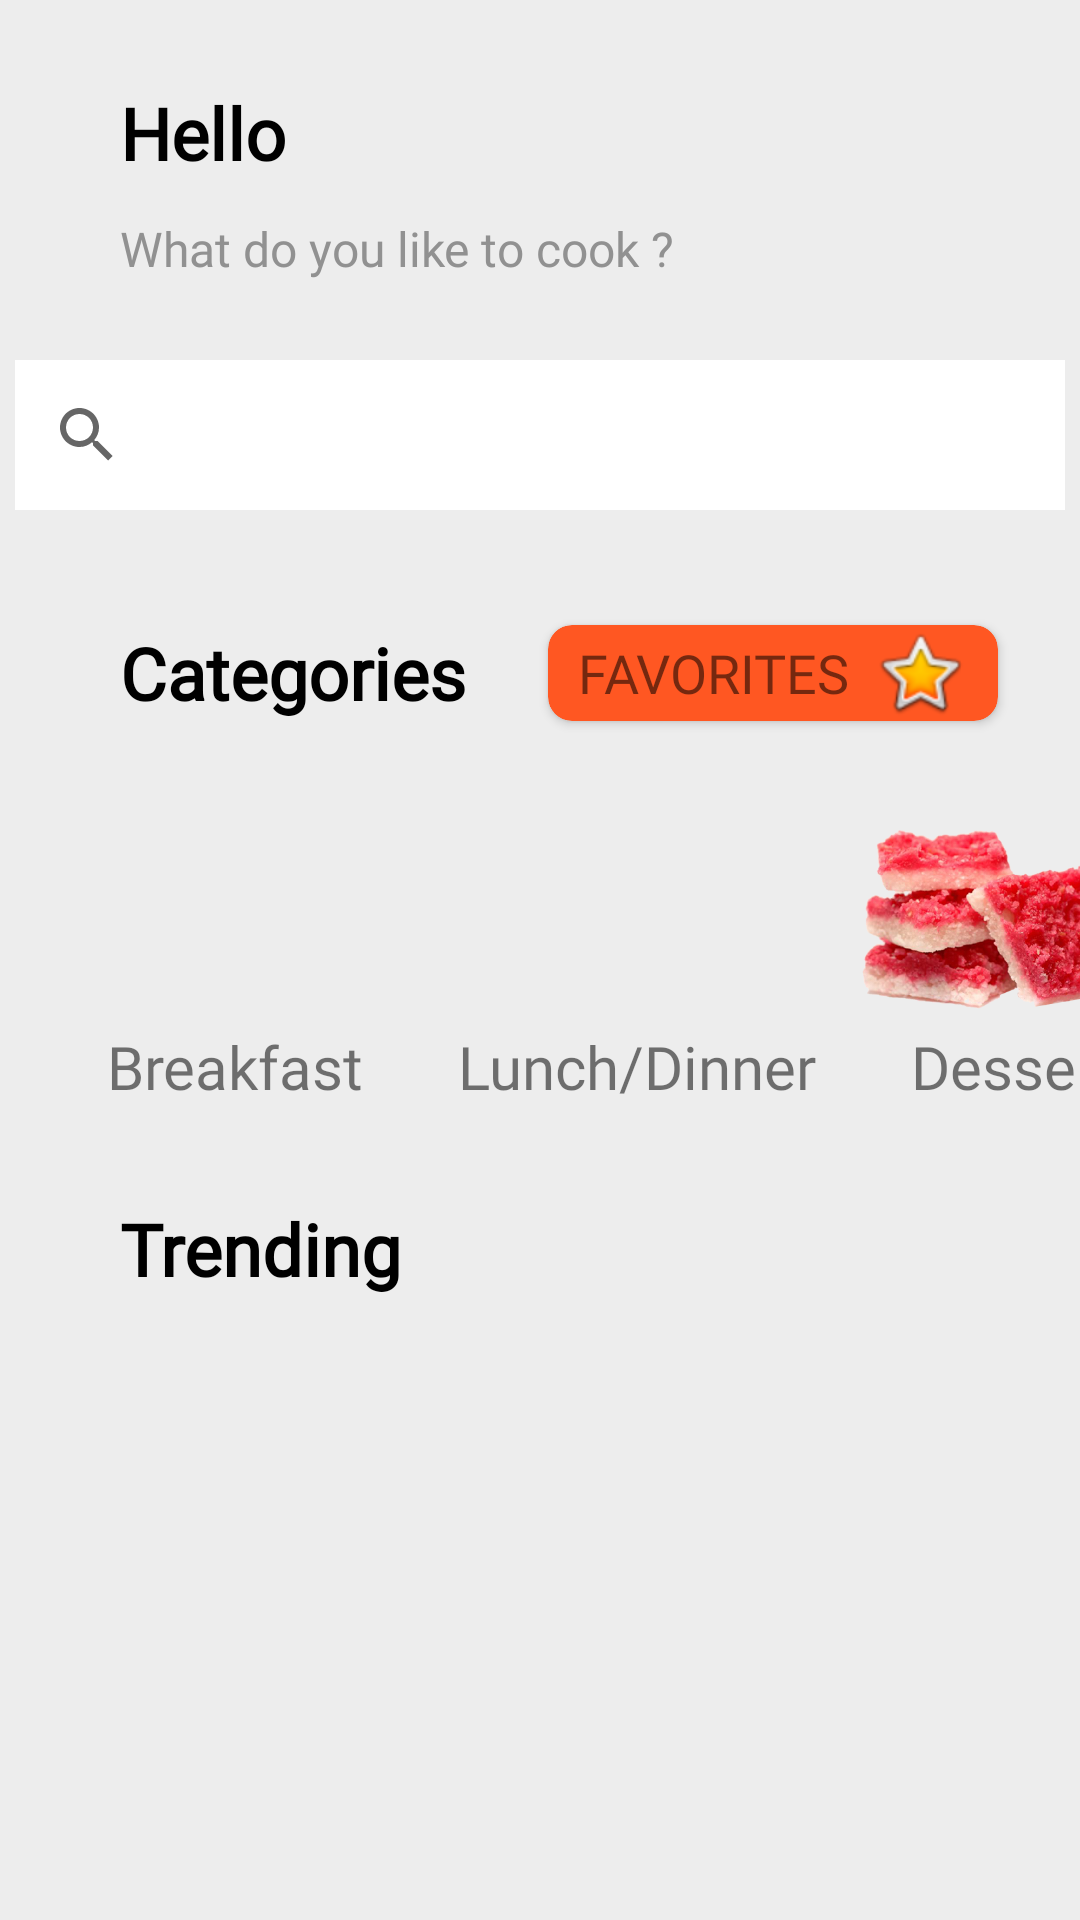

Icons on this 1080 × 1920 Android screen, each with its box as (x1, y1, x2, y2):
star on: (881, 635, 961, 713)
